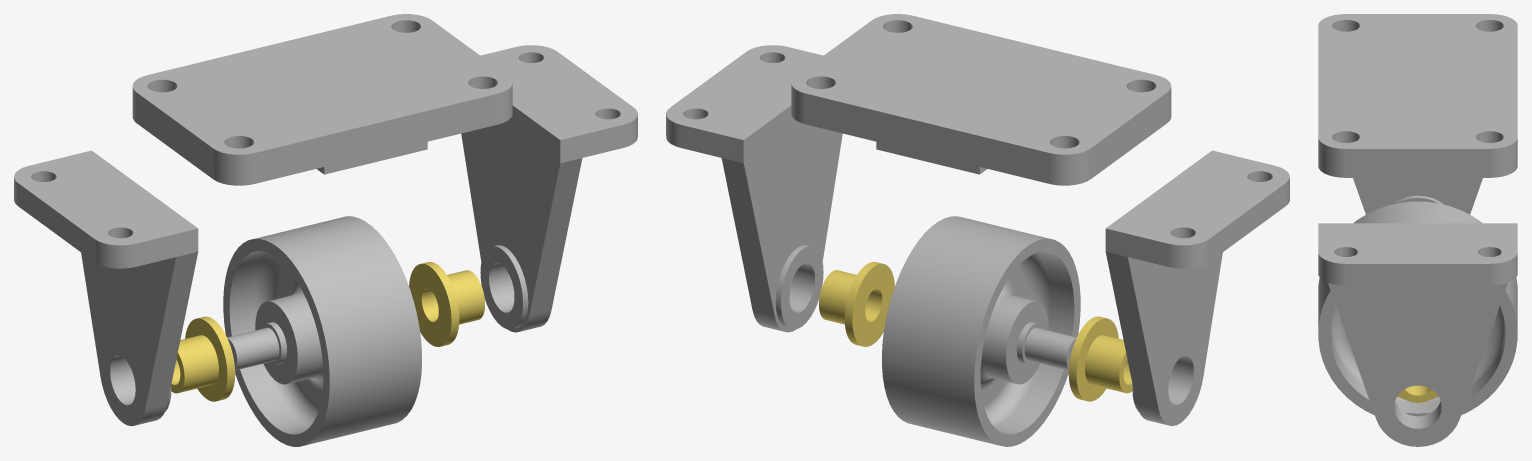
The model's file is rueda.glb.
3 views of the same model, side by side, from view 1: azimuth 30°, elevation 25°; view 2: azimuth 150°, elevation 25°; view 3: azimuth 270°, elevation 25° (orthographic). The views are drawn at different scales.
Visible parts, largest first — view 1: Ejercicio N°1 (base)-1, Ejercicio N°5 (rueda)-1, Lateral-1, Lateral-2, Ejercicio N°2 (buje)-1, Ejercicio N°2 (buje)-2, Ejercicio N°3 (eje)-1; view 2: Ejercicio N°1 (base)-1, Ejercicio N°5 (rueda)-1, Lateral-1, Lateral-2, Ejercicio N°2 (buje)-1, Ejercicio N°2 (buje)-2, Ejercicio N°3 (eje)-1; view 3: Ejercicio N°1 (base)-1, Lateral-1, Ejercicio N°5 (rueda)-1, Lateral-2, Ejercicio N°2 (buje)-1.
Part boxes in pixels (x1,y1,x2,y2): Ejercicio N°1 (base)-1: [132, 14, 512, 185]; Ejercicio N°5 (rueda)-1: [223, 216, 421, 446]; Lateral-1: [461, 45, 637, 332]; Lateral-2: [14, 150, 198, 426]; Ejercicio N°2 (buje)-1: [409, 262, 484, 346]; Ejercicio N°2 (buje)-2: [171, 316, 235, 401]; Ejercicio N°3 (eje)-1: [227, 322, 287, 370]; Ejercicio N°1 (base)-1: [791, 14, 1171, 185]; Ejercicio N°5 (rueda)-1: [882, 216, 1080, 446]; Lateral-1: [666, 45, 842, 332]; Lateral-2: [1105, 150, 1289, 425]; Ejercicio N°2 (buje)-1: [819, 262, 894, 346]; Ejercicio N°2 (buje)-2: [1068, 316, 1132, 401]; Ejercicio N°3 (eje)-1: [1016, 322, 1076, 370]; Ejercicio N°1 (base)-1: [1318, 14, 1517, 177]; Lateral-1: [1318, 223, 1517, 446]; Ejercicio N°5 (rueda)-1: [1318, 201, 1517, 416]; Lateral-2: [1353, 178, 1482, 214]; Ejercicio N°2 (buje)-1: [1397, 385, 1438, 402].
Bounding box in the file's own units: 0.73 × 0.4447 × 0.25.
